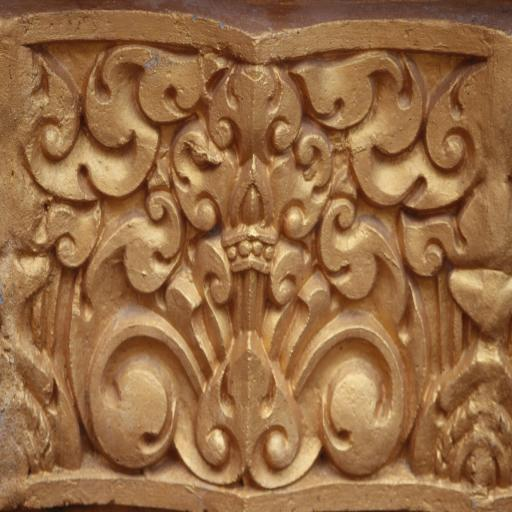la: (76, 52, 427, 486), (296, 53, 476, 208), (26, 50, 205, 200)
